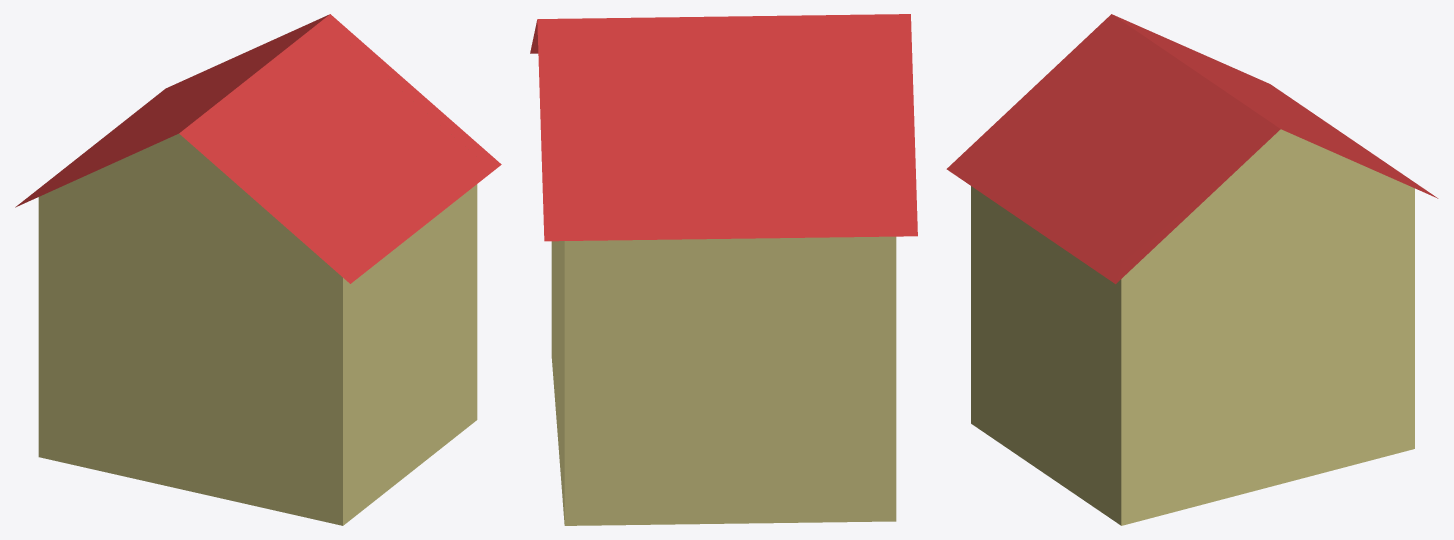
3 renders of one model, left to right at view 1: azimuth 30°, elevation 25°; view 2: azimuth 150°, elevation 25°; view 3: azimuth 270°, elevation 25°, orthographic. The views are drawn at different scales.
Bounding box in the file's own units: 13.17 × 13.71 × 11.16.
